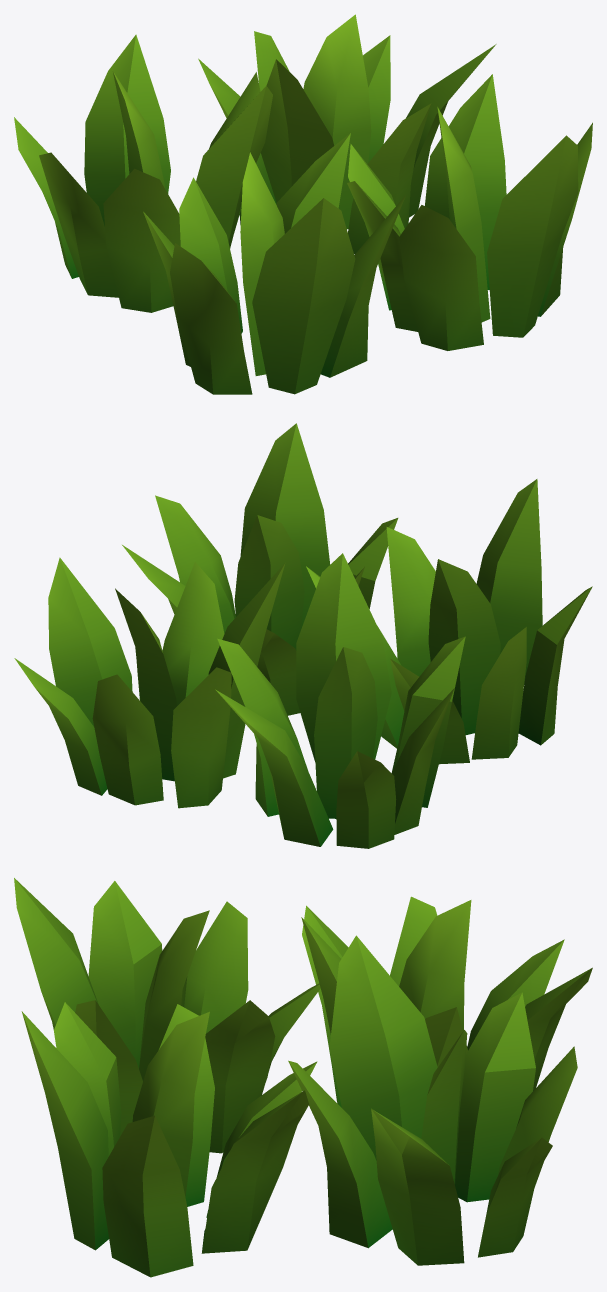
The model's file is grass_green_group.glb.
3 renders of one model, top to bottom at view 1: azimuth 30°, elevation 25°; view 2: azimuth 150°, elevation 25°; view 3: azimuth 270°, elevation 25°, orthographic. The views are drawn at different scales.
Parts seen in each view (by area): view 1: grass_green_group; view 2: grass_green_group; view 3: grass_green_group.
Boxes of the visible parts, box(x1,y1,x2,y2) form: grass_green_group: box(14, 14, 592, 394); grass_green_group: box(14, 423, 592, 848); grass_green_group: box(14, 878, 592, 1277).
Bounding box in the file's own units: 1.1 × 0.5149 × 1.13.
Materials: 1 (1 with a texture image).
